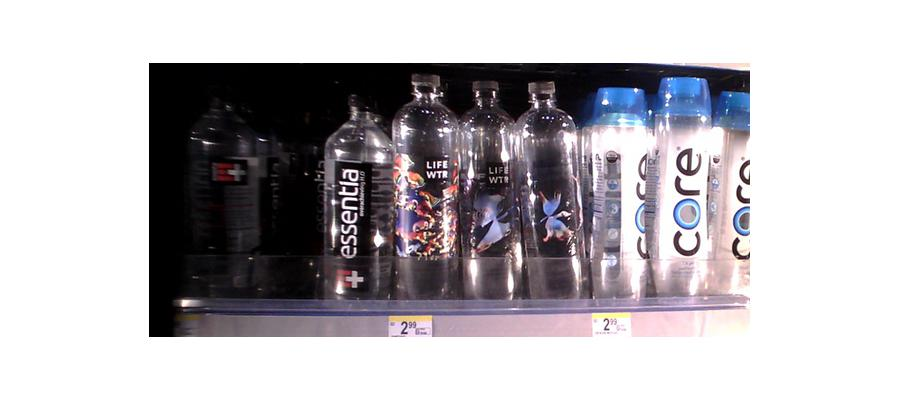bottle: (517, 75, 587, 309), (391, 68, 461, 300), (189, 85, 264, 293), (585, 81, 650, 308), (319, 89, 386, 305), (652, 72, 715, 301), (461, 77, 520, 300), (710, 87, 759, 303)
